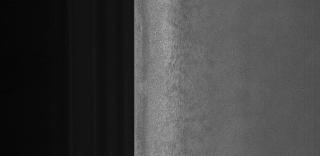silk spot: (166, 20, 206, 146)
